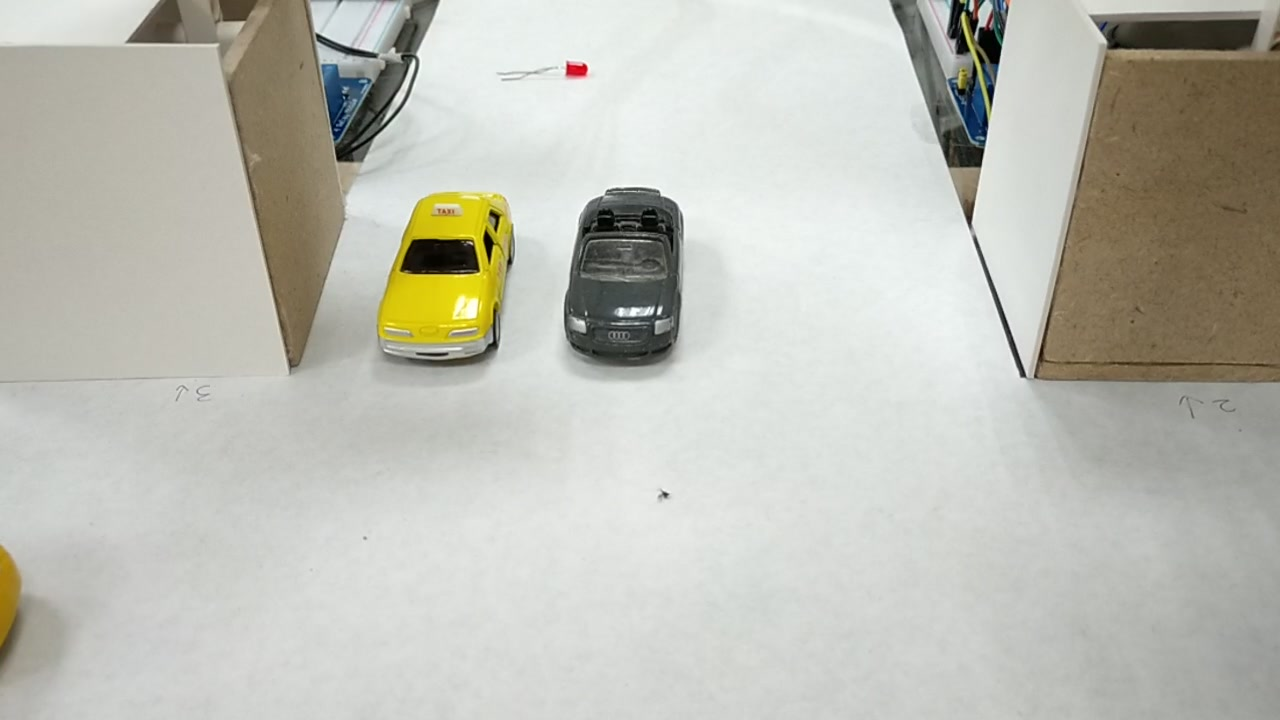car: (377, 194, 511, 357), (564, 189, 683, 364)
